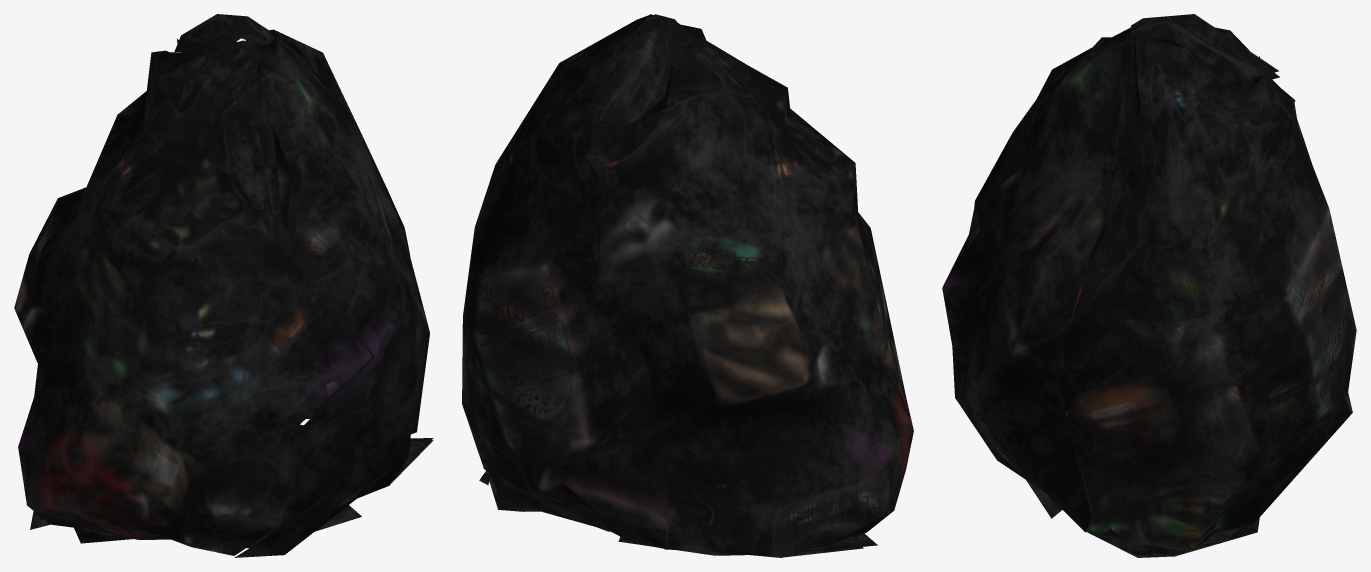
File: trashbag.glb
3 views of the same model, side by side, from view 1: azimuth 30°, elevation 25°; view 2: azimuth 150°, elevation 25°; view 3: azimuth 270°, elevation 25° (orthographic). The views are drawn at different scales.
Parts seen in each view (by area): view 1: trashbag; view 2: trashbag; view 3: trashbag.
Boxes of the visible parts, <box> form: trashbag: <box>14,14,433,557</box>; trashbag: <box>462,14,913,557</box>; trashbag: <box>942,14,1356,557</box>.
Bounding box in the file's own units: 0.5189 × 0.5832 × 0.4624.
1 material, 1 textured.
